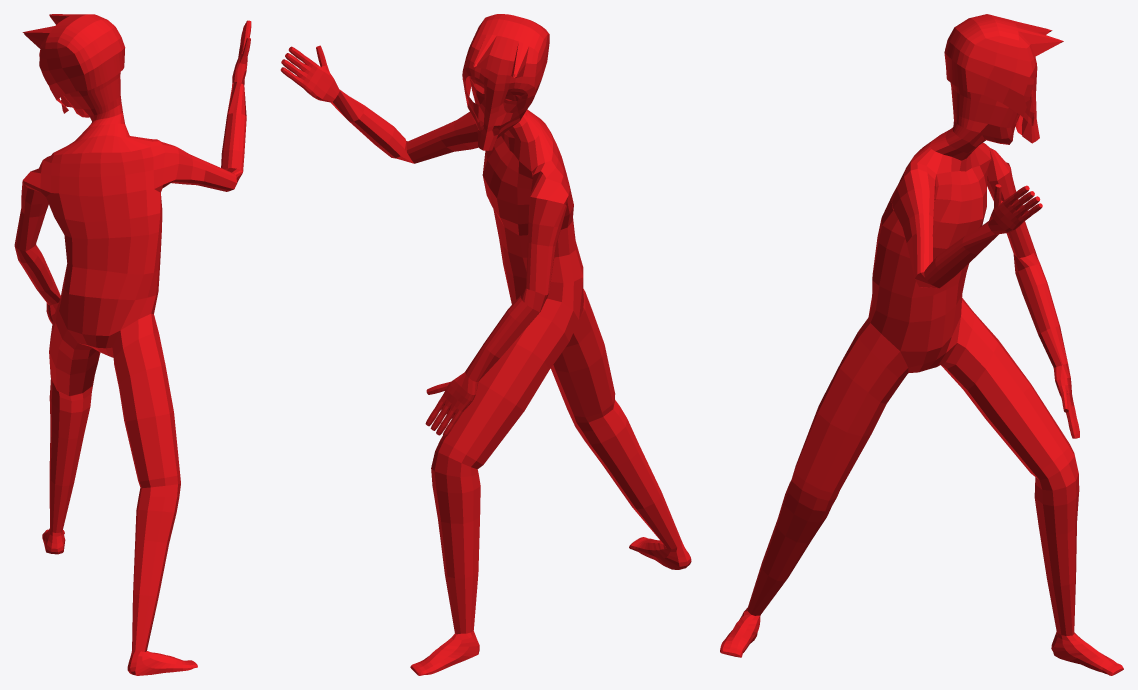
Rendered from activaAlarma_000149.obj.
The picture shows the model from 3 angles, left to right: view 1: azimuth 30°, elevation 25°; view 2: azimuth 150°, elevation 25°; view 3: azimuth 270°, elevation 25°; orthographic projection. The views are drawn at different scales.
Visible parts, largest first — view 1: Plane.002_Plane.001; view 2: Plane.002_Plane.001; view 3: Plane.002_Plane.001.
Boxes of the visible parts, x1,y1,x2,y2 form: Plane.002_Plane.001: (14, 14, 251, 675); Plane.002_Plane.001: (280, 14, 691, 675); Plane.002_Plane.001: (720, 14, 1123, 675).
Bounding box in the file's own units: 3.02 × 6.64 × 3.78.
